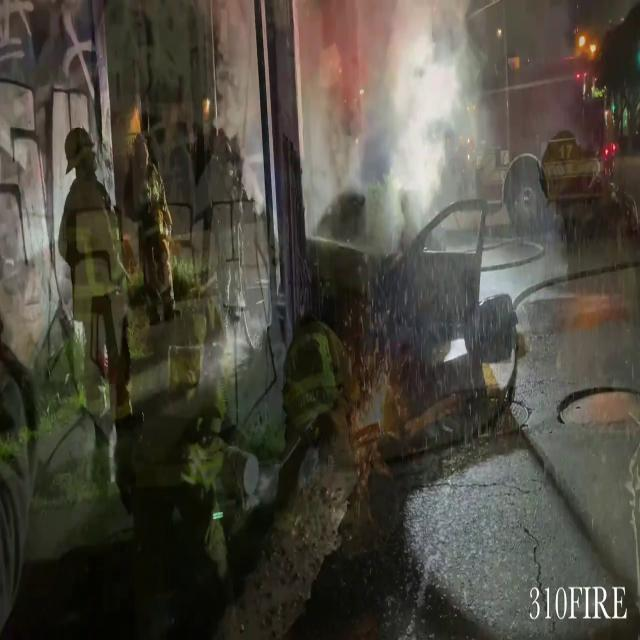Smoke: (314, 0, 490, 236)
